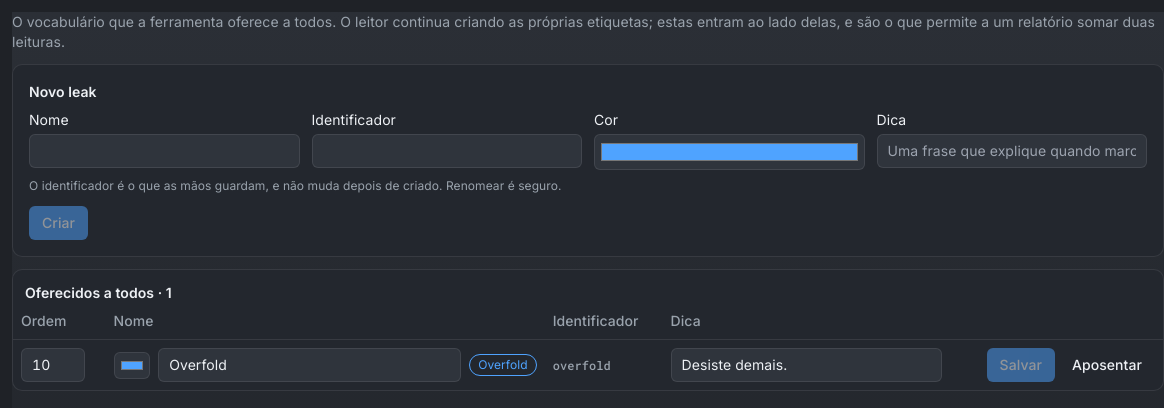
a tela do catálogo de leaks › sugere o identificador a partir do nome, sem acento e sem espaço
Expected: the field showing "Overfold" is shown, [158,348,461,382]
Type "Pagar até demais" into the field labelled "Nome" at (164, 151), box [29,134,300,168]
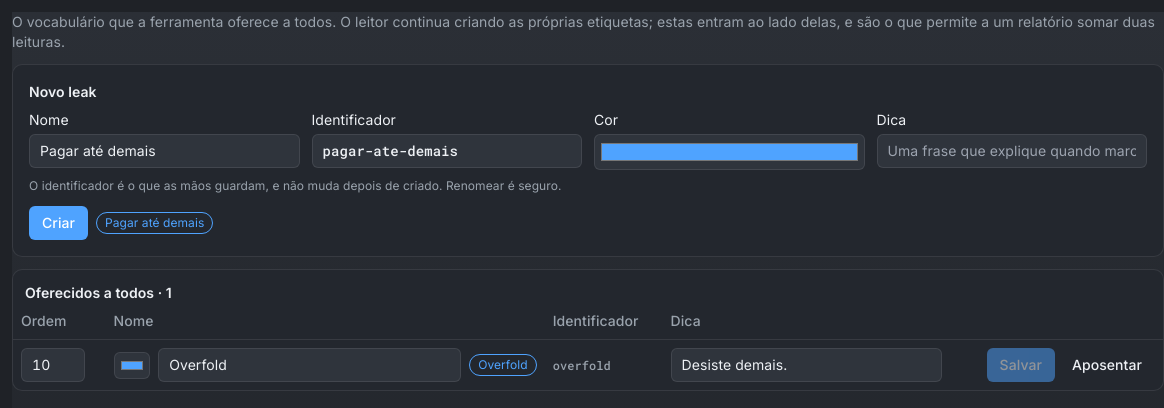
Expected: the field labelled "Identificador" holds "pagar-ate-demais", [312,134,582,168]
